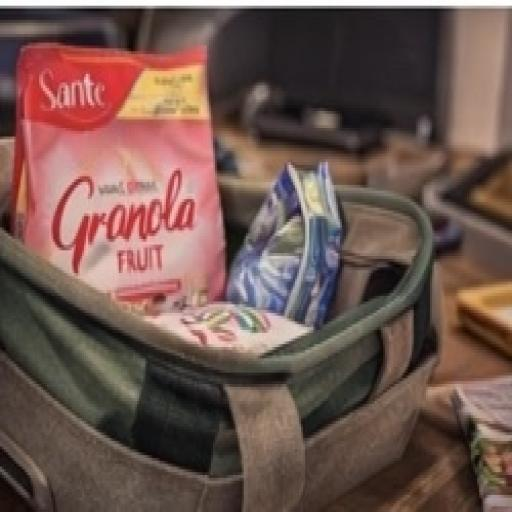granola: (4, 25, 276, 330)
